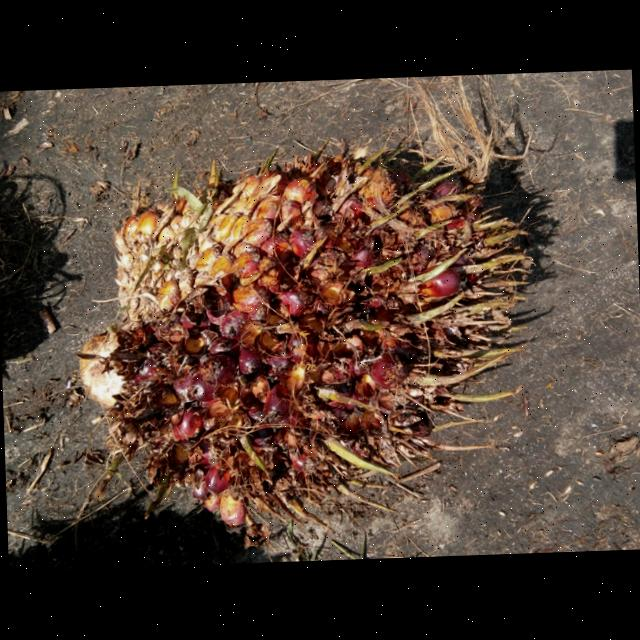Ripe: (95, 151, 512, 520)
